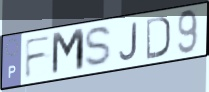9: (176, 7, 200, 57)
D: (145, 14, 172, 61)
F: (23, 33, 54, 81)
J: (118, 20, 139, 62)
M: (50, 26, 87, 79)
S: (82, 25, 115, 70)
